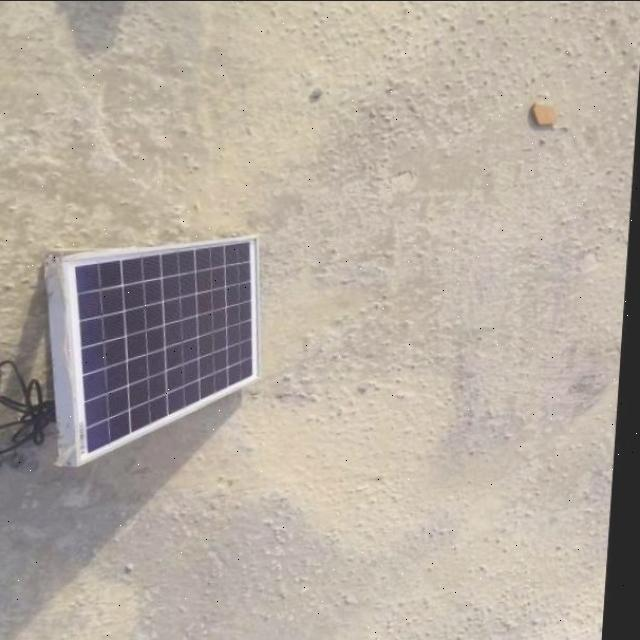Normal Solar Panel: (56, 236, 272, 464)
